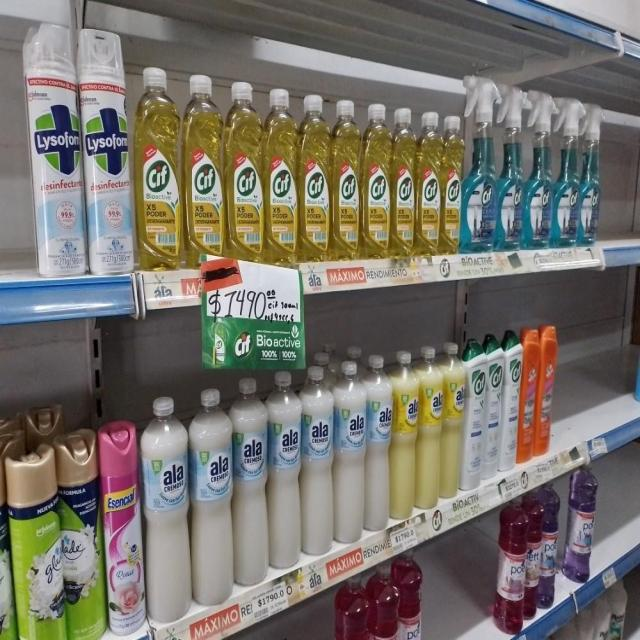ala_crem_amarillo: (442, 341, 463, 502)
ala_crem_blanco: (143, 394, 190, 626), (191, 385, 233, 608), (233, 375, 268, 590), (268, 370, 301, 574), (302, 362, 333, 558), (334, 358, 365, 547), (366, 354, 390, 534)
cif_conc_bot_amarilla: (136, 65, 180, 270), (183, 72, 224, 262), (225, 80, 263, 262), (264, 87, 298, 263), (299, 92, 330, 262), (331, 97, 361, 261), (362, 102, 391, 260), (416, 110, 441, 256), (392, 106, 415, 258), (441, 113, 461, 255)
magistral_con_azul: (553, 105, 579, 247)
